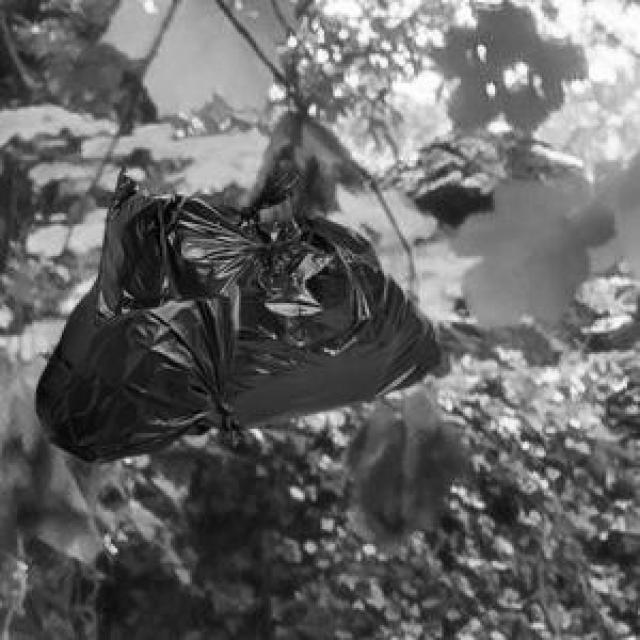miscellaneous trash: (184, 156, 437, 431), (32, 275, 241, 461), (92, 162, 324, 326)
